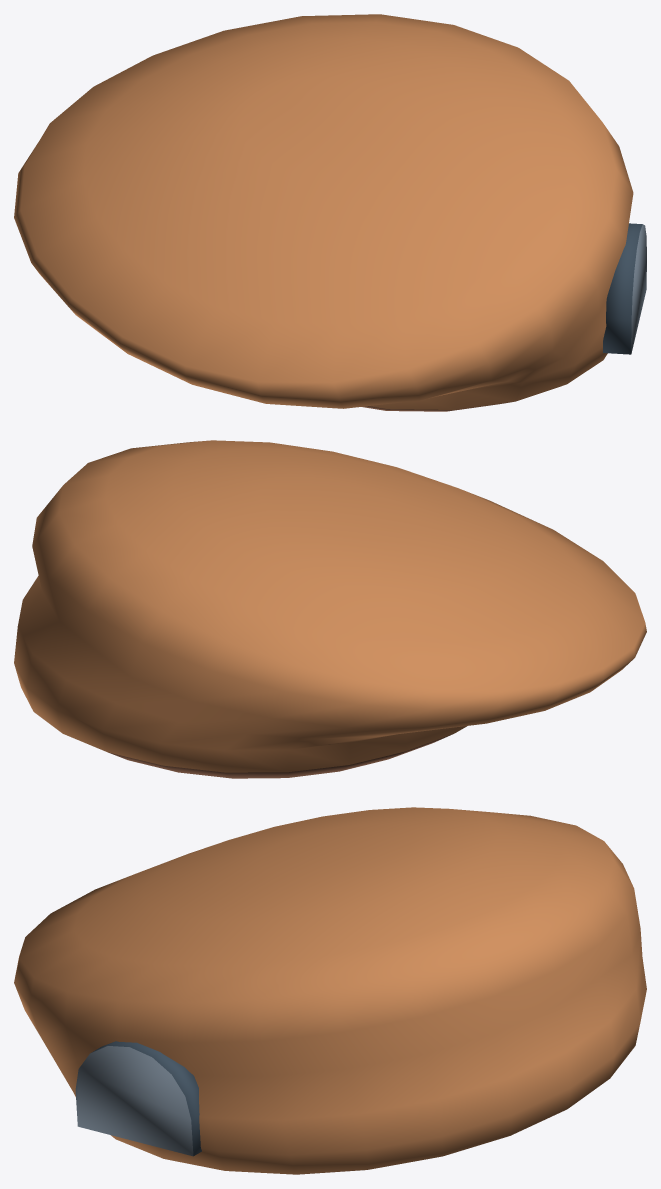
Rendered from militaryBeret.fbx.
The picture shows the model from 3 angles, top to bottom: view 1: azimuth 30°, elevation 25°; view 2: azimuth 150°, elevation 25°; view 3: azimuth 270°, elevation 25°; orthographic projection.
Parts seen in each view (by area): view 1: militaryBeret; view 2: militaryBeret; view 3: militaryBeret.
Boxes of the visible parts, <box> form: militaryBeret: <box>14,14,646,411</box>; militaryBeret: <box>14,440,646,778</box>; militaryBeret: <box>14,807,646,1174</box>.
Bounding box in the file's own units: 113 × 46.7 × 114.
